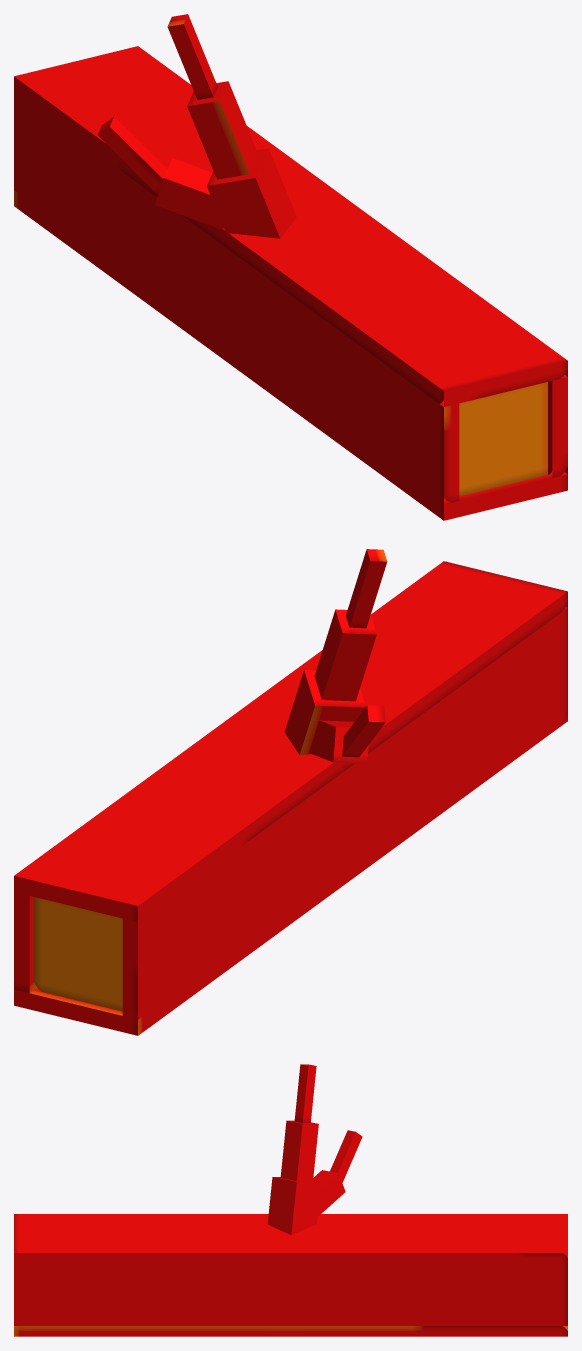
File: LOG.obj
The picture shows the model from 3 angles, top to bottom: view 1: azimuth 30°, elevation 25°; view 2: azimuth 150°, elevation 25°; view 3: azimuth 270°, elevation 25°; orthographic projection. The views are drawn at different scales.
Parts seen in each view (by area): view 1: cube; view 2: cube; view 3: cube.
Part boxes in pixels (x1,y1,x2,y2): cube: (14,14,567,520); cube: (14,549,567,1035); cube: (14,1064,567,1336).
Size of the model in its own units: 0.8308 by 1.33 by 3.
